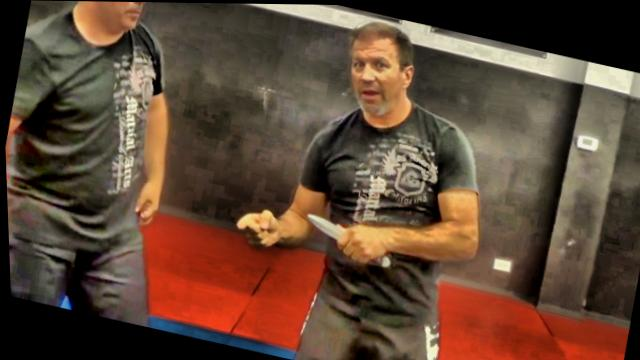knife: (294, 206, 399, 271)
